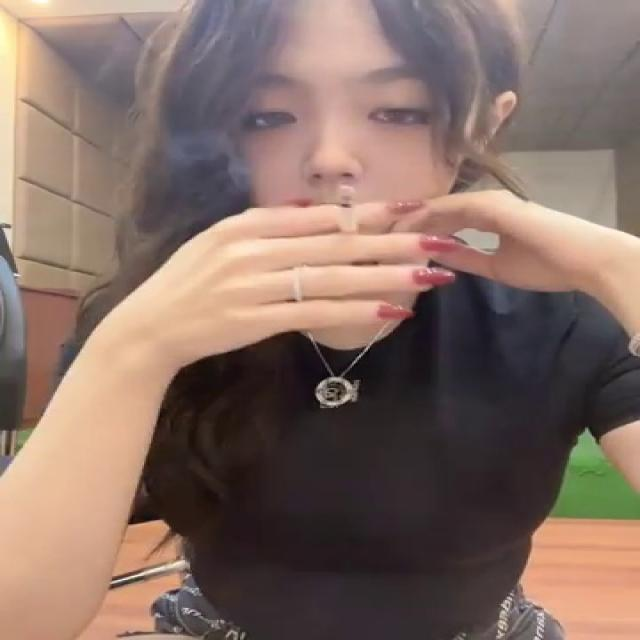Cigarette: (338, 187, 358, 234)
Hand: (148, 197, 452, 351)
Mouth: (292, 193, 364, 214)
